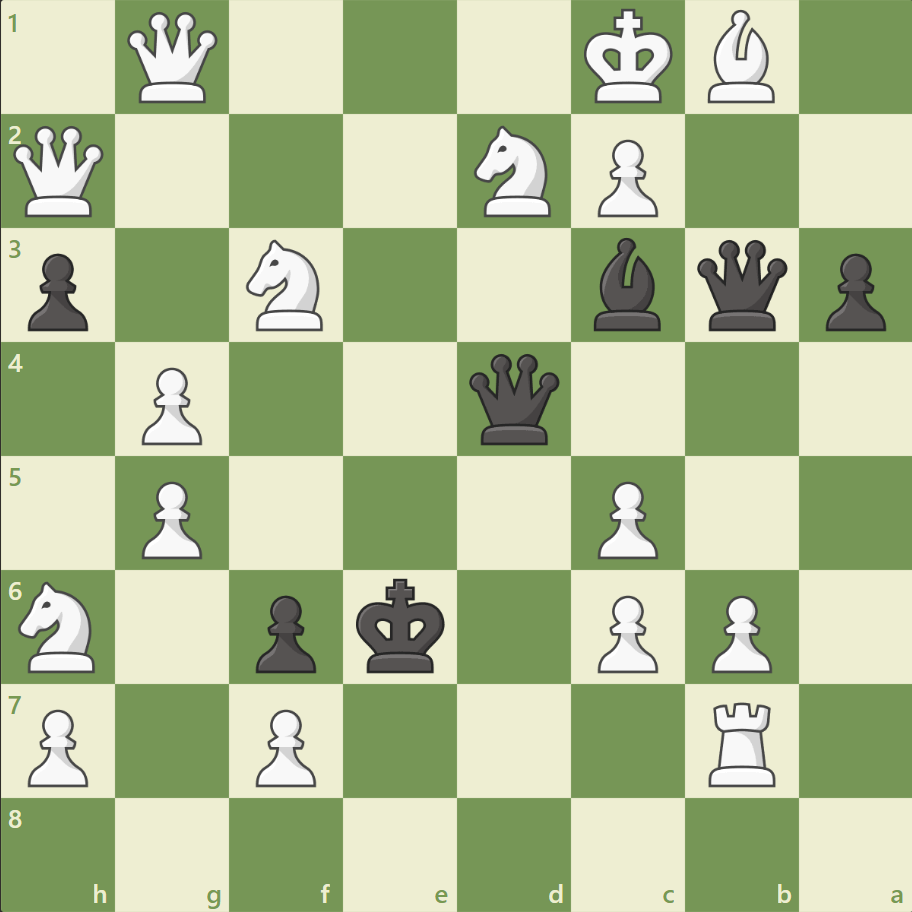B: (698, 6, 782, 109)
K: (579, 4, 679, 112)
N: (238, 234, 335, 337), (11, 575, 108, 677), (465, 121, 562, 223)
P: (247, 700, 322, 791), (20, 700, 95, 791), (701, 586, 776, 677), (133, 473, 208, 564), (133, 359, 208, 450), (588, 586, 662, 677), (588, 473, 662, 564), (588, 132, 662, 223)
Q: (10, 122, 109, 222), (124, 9, 223, 108)
R: (700, 693, 783, 790)
b: (585, 233, 669, 336)
k: (351, 571, 451, 679)
p: (247, 586, 322, 677), (20, 246, 95, 337), (815, 246, 889, 337)
q: (464, 349, 563, 449), (691, 236, 790, 335)
